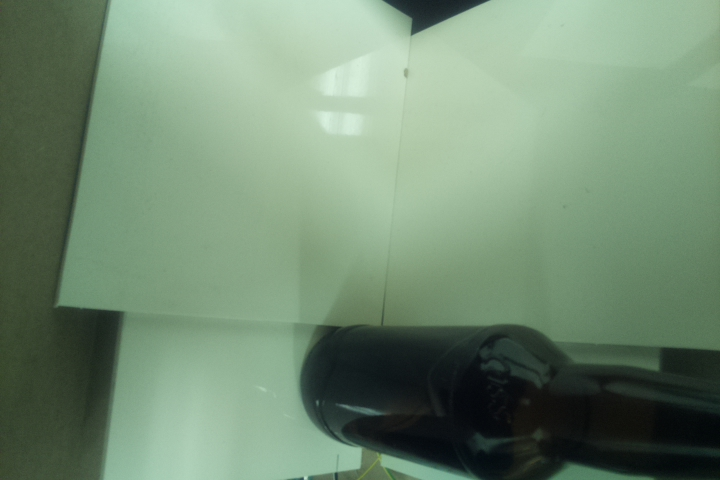makju: (300, 323, 720, 479)
